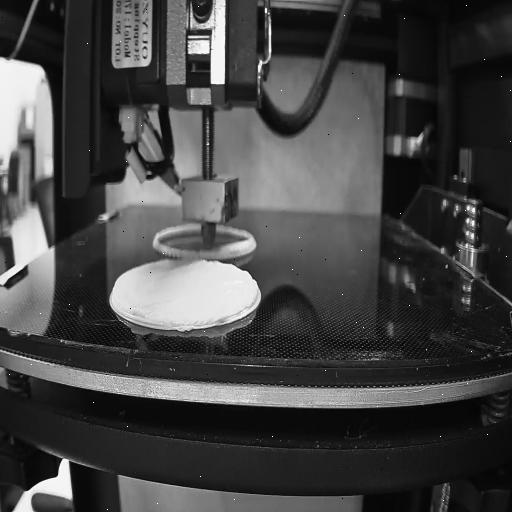over_extrusion: (242, 268, 258, 306)
